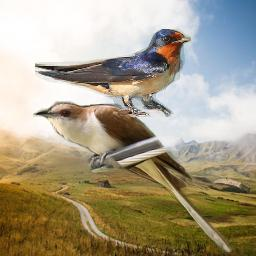Cuckoo: (33, 101, 235, 256)
Swallow: (35, 29, 191, 117)
